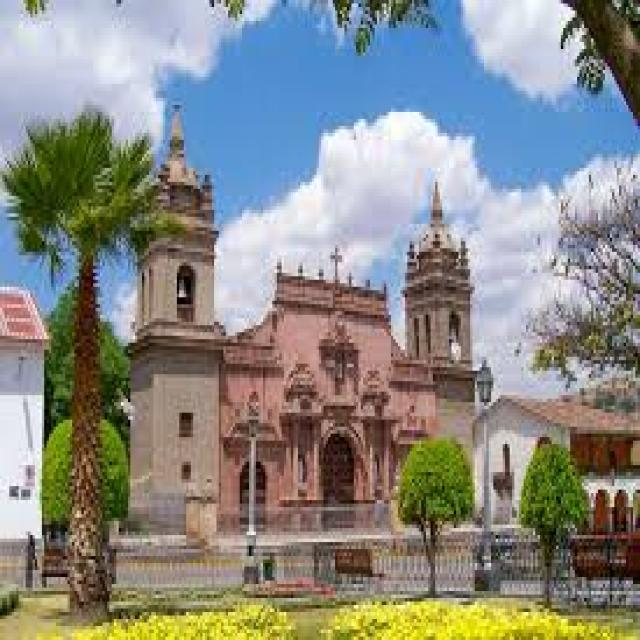6: (115, 93, 224, 533), (410, 180, 491, 522)
CAMPANARIO: (135, 186, 218, 334), (412, 209, 479, 362)
CUPULA: (0, 15, 630, 546)
PORTADA CENTRAL: (127, 137, 210, 209), (420, 199, 466, 277)
SIMETRIA COLONIAL: (284, 364, 387, 538)
colonial-architecture-: (108, 83, 530, 551)
